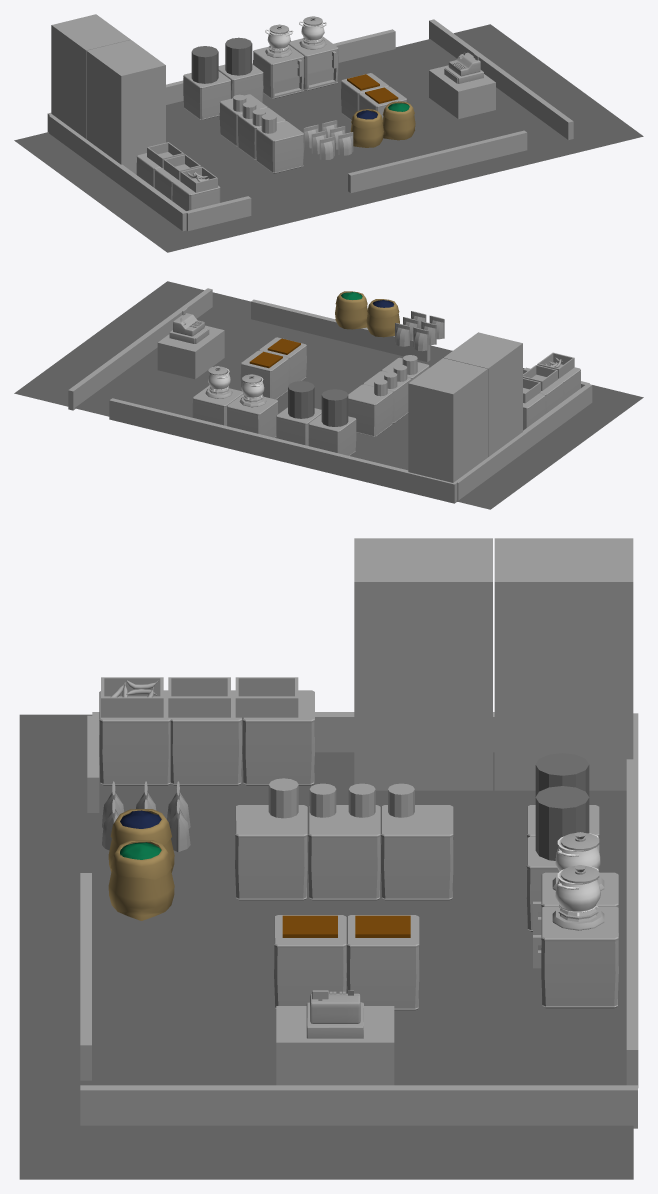
File: WhereThingstand.fbx
3 renders of one model, top to bottom at view 1: azimuth 30°, elevation 25°; view 2: azimuth 150°, elevation 25°; view 3: azimuth 270°, elevation 25°, orthographic. The views are drawn at different scales.
Parts seen in each view (by area): view 1: updated_scene2:Ref, updated_scene2:pCube5, updated_scene2:pCube4, updated_scene2:Kitchen_Part_013, updated_scene2:Kitchen_Part_017, updated_scene2:Kitchen_Part_033, updated_scene2:pCube10, updated_scene2:unit_09, updated_scene2:unit_06, updated_scene2:Kitchen_Part_032, unit_07, updated_scene2:unit_05 (+19 smaller); view 2: updated_scene2:Ref, updated_scene2:pCube4, updated_scene2:Kitchen_Part_032, updated_scene2:pCube5, updated_scene2:Kitchen_Part_013, updated_scene2:Kitchen_Part_017, updated_scene2:Kitchen_Part_033, updated_scene2:pCube10, updated_scene2:unit_07, updated_scene2:unit_06, unit_07, updated_scene2:unit_04 (+20 smaller); view 3: updated_scene2:Ref, updated_scene2:pCube5, updated_scene2:pCube4, updated_scene2:Kitchen_Part_033, updated_scene2:pCube10, updated_scene2:unit_05, updated_scene2:unit_07, updated_scene2:unit_09, updated_scene2:unit_08, updated_scene2:unit_04, updated_scene2:unit_10, updated_scene2:unit_12 (+24 smaller).
Boxes of the visible parts, x1=… form: updated_scene2:Ref: x1=14, y1=24, x2=643, y2=252; updated_scene2:pCube5: x1=86, y1=40, x2=165, y2=174; updated_scene2:pCube4: x1=51, y1=14, x2=130, y2=138; updated_scene2:Kitchen_Part_013: x1=348, y1=130, x2=527, y2=192; updated_scene2:Kitchen_Part_017: x1=49, y1=115, x2=187, y2=231; updated_scene2:Kitchen_Part_033: x1=429, y1=19, x2=573, y2=139; updated_scene2:pCube10: x1=429, y1=65, x2=495, y2=118; updated_scene2:unit_09: x1=256, y1=121, x2=304, y2=173; updated_scene2:unit_06: x1=253, y1=45, x2=304, y2=98; updated_scene2:Kitchen_Part_032: x1=47, y1=29, x2=395, y2=131; unit_07: x1=183, y1=71, x2=231, y2=119; updated_scene2:unit_05: x1=288, y1=36, x2=338, y2=90; updated_scene2:Ref: x1=14, y1=281, x2=643, y2=509; updated_scene2:pCube4: x1=408, y1=358, x2=487, y2=482; updated_scene2:Kitchen_Part_032: x1=109, y1=398, x2=457, y2=503; updated_scene2:pCube5: x1=444, y1=332, x2=522, y2=456; updated_scene2:Kitchen_Part_013: x1=251, y1=299, x2=430, y2=362; updated_scene2:Kitchen_Part_017: x1=455, y1=383, x2=592, y2=501; updated_scene2:Kitchen_Part_033: x1=68, y1=288, x2=212, y2=410; updated_scene2:pCube10: x1=157, y1=325, x2=224, y2=379; updated_scene2:unit_07: x1=348, y1=384, x2=392, y2=436; updated_scene2:unit_06: x1=227, y1=394, x2=278, y2=437; unit_07: x1=308, y1=414, x2=356, y2=455; updated_scene2:unit_04: x1=240, y1=350, x2=288, y2=399; updated_scene2:Ref: x1=19, y1=714, x2=633, y2=1179; updated_scene2:pCube5: x1=354, y1=538, x2=492, y2=790; updated_scene2:pCube4: x1=494, y1=538, x2=633, y2=790; updated_scene2:Kitchen_Part_033: x1=80, y1=1085, x2=637, y2=1128; updated_scene2:pCube10: x1=276, y1=1006, x2=394, y2=1085; updated_scene2:unit_05: x1=533, y1=906, x2=618, y2=1008; updated_scene2:unit_07: x1=381, y1=805, x2=453, y2=900; updated_scene2:unit_09: x1=235, y1=805, x2=307, y2=900; updated_scene2:unit_08: x1=308, y1=805, x2=380, y2=900; updated_scene2:unit_04: x1=346, y1=915, x2=419, y2=1010; updated_scene2:unit_10: x1=242, y1=690, x2=314, y2=785; updated_scene2:unit_12: x1=99, y1=690, x2=170, y2=785.
Bounding box in the file's own units: 2468 × 539 × 1387.
